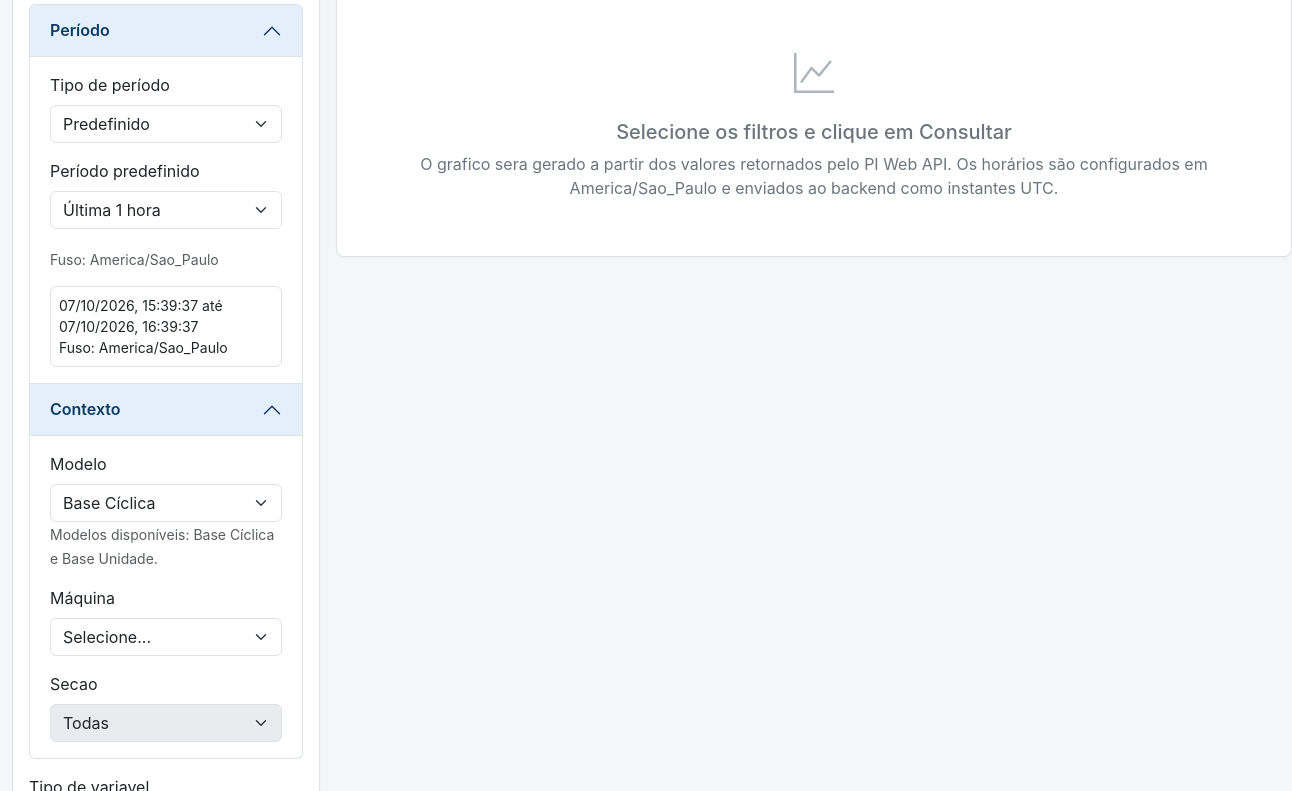
Test: Base Unidade main chart integration › does not use an equipment-wide UM as an implicit fallback for a section
Select "RB3 - Equipamento RB3" in the dropdown with test id "equipment-select" at {"x": 166, "y": 637}, box [50,618,282,656]
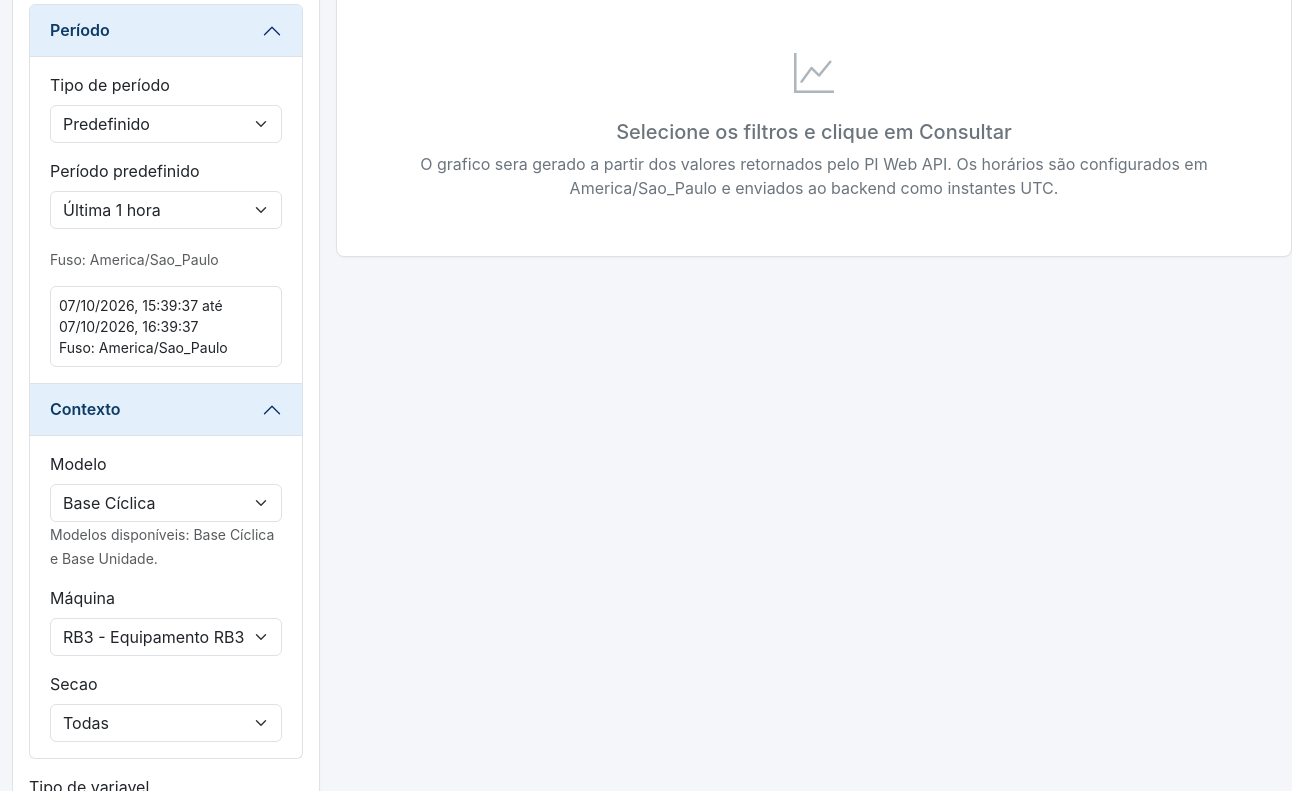
Select "FORNO - Forno" in the dropdown with test id "section-select" at {"x": 166, "y": 723}, box [50,704,282,742]
Select "Base Unidade" in the dropdown with test id "analysis-model" at {"x": 166, "y": 503}, box [50,484,282,522]
(page scrolled)
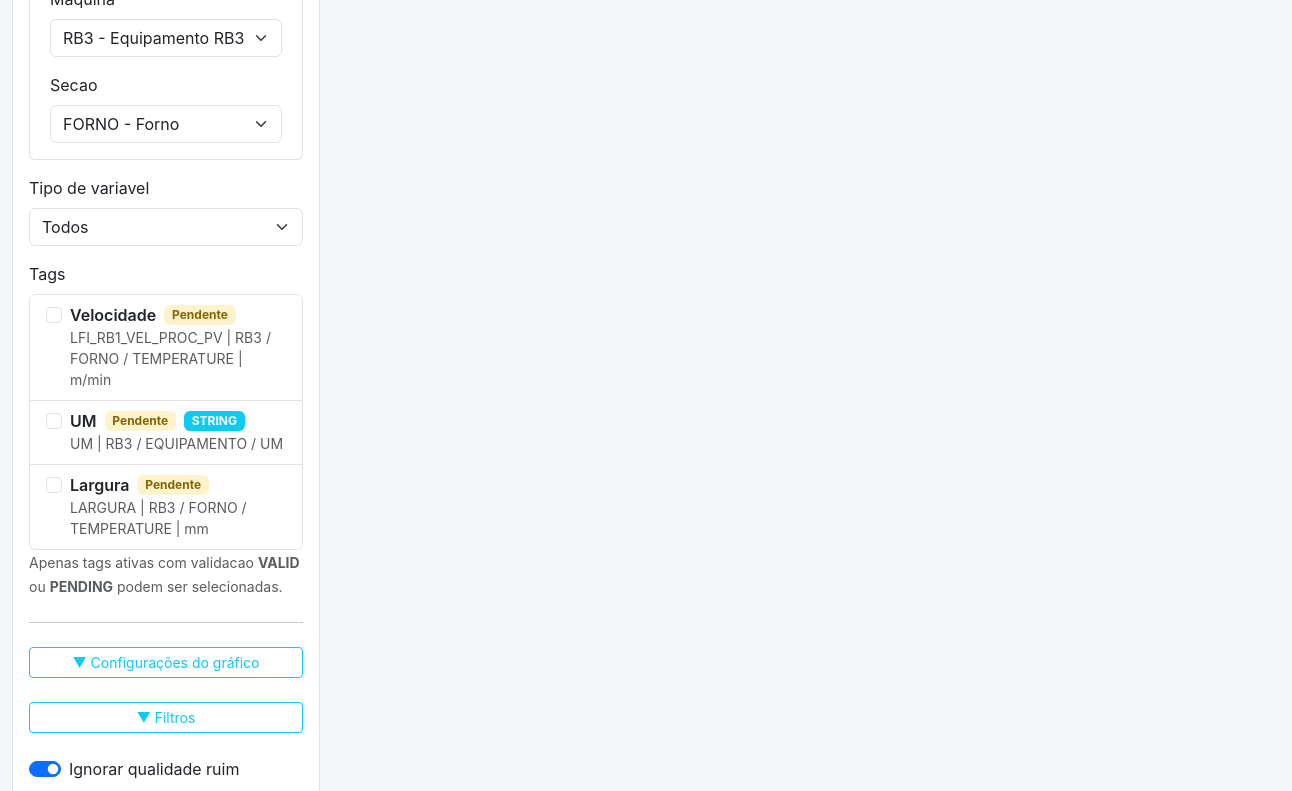
Click the button with test id "tag-option-20" at {"x": 166, "y": 348}, box [29,294,303,401]
(page scrolled)
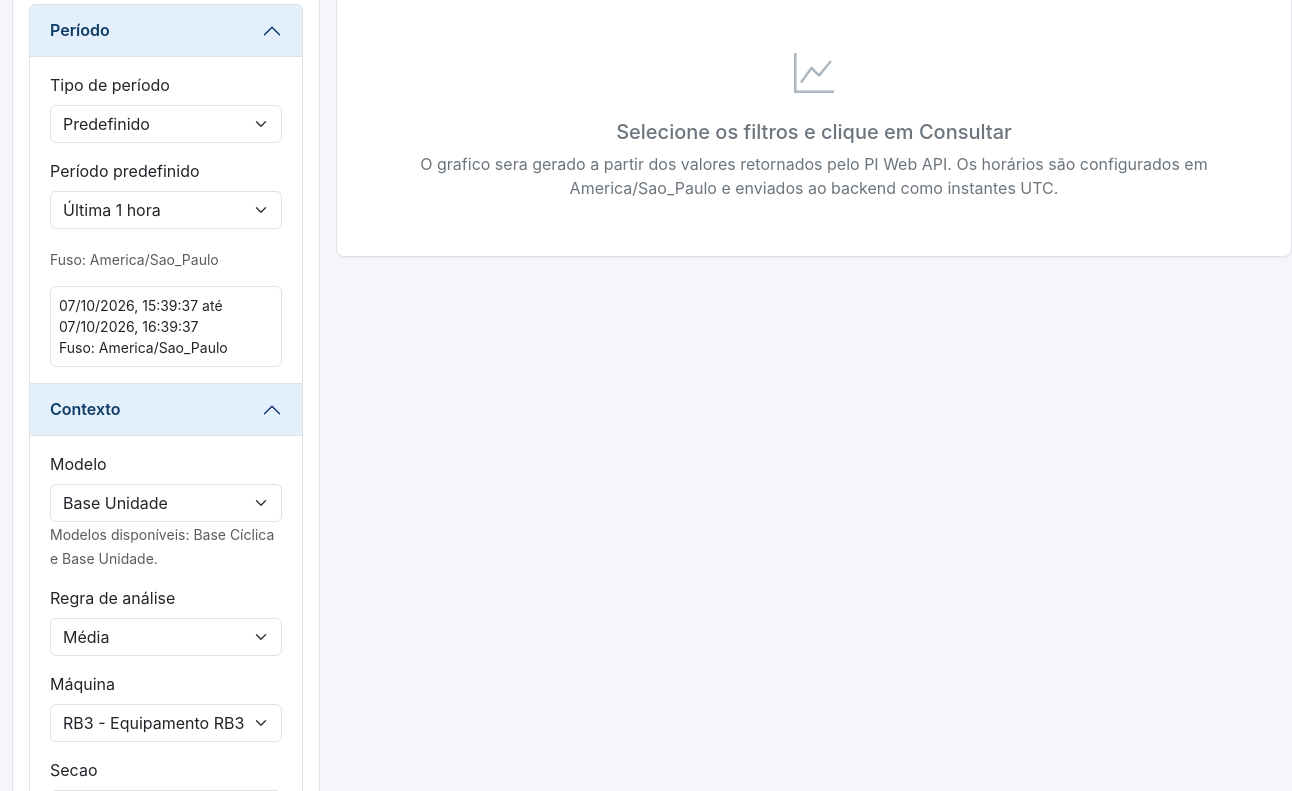
Select "Absoluto" in the dropdown with test id "period-kind" at {"x": 166, "y": 124}, box [50,105,282,143]
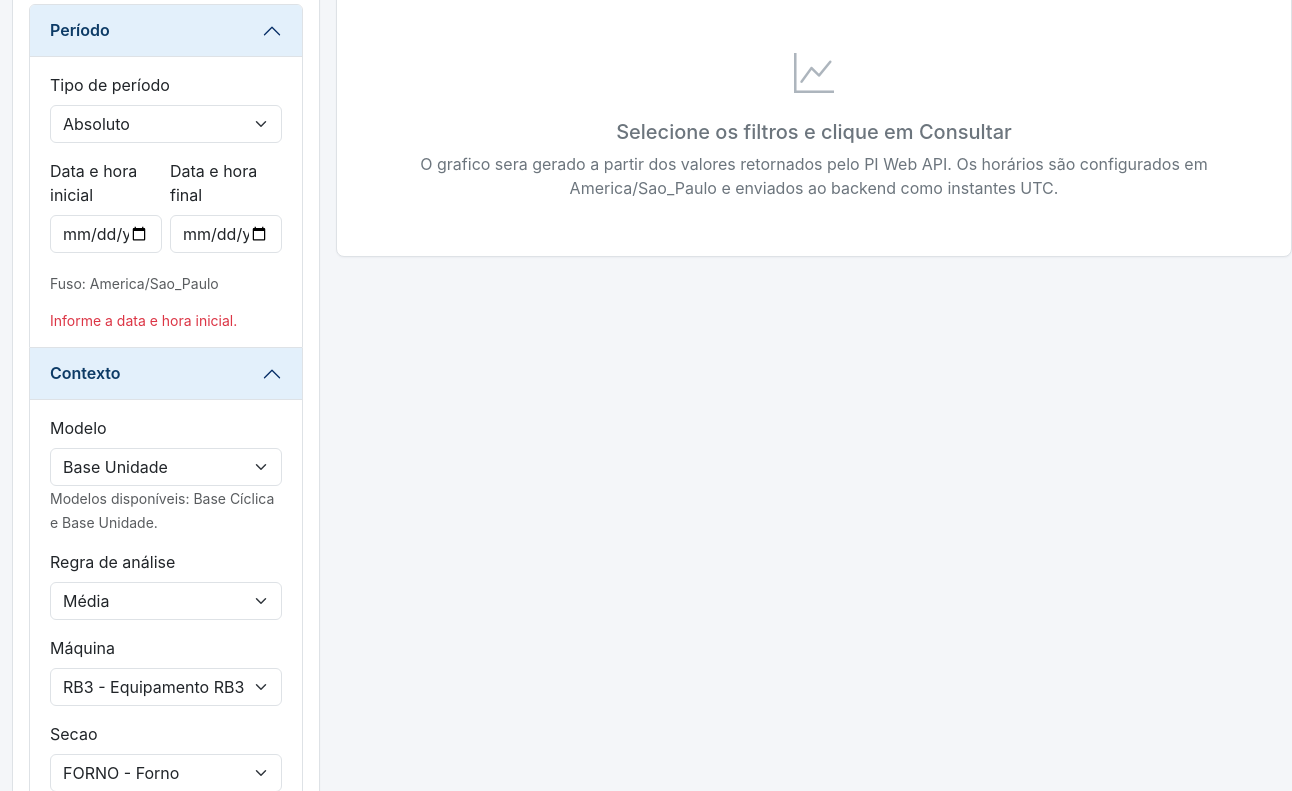
Type "2026-10-02T07:00:00" into the field with test id "absolute-start" at {"x": 106, "y": 234}, box [50,215,162,253]
Type "2026-10-02T07:15:00" into the field with test id "absolute-end" at {"x": 226, "y": 234}, box [170,215,282,253]
(page scrolled)
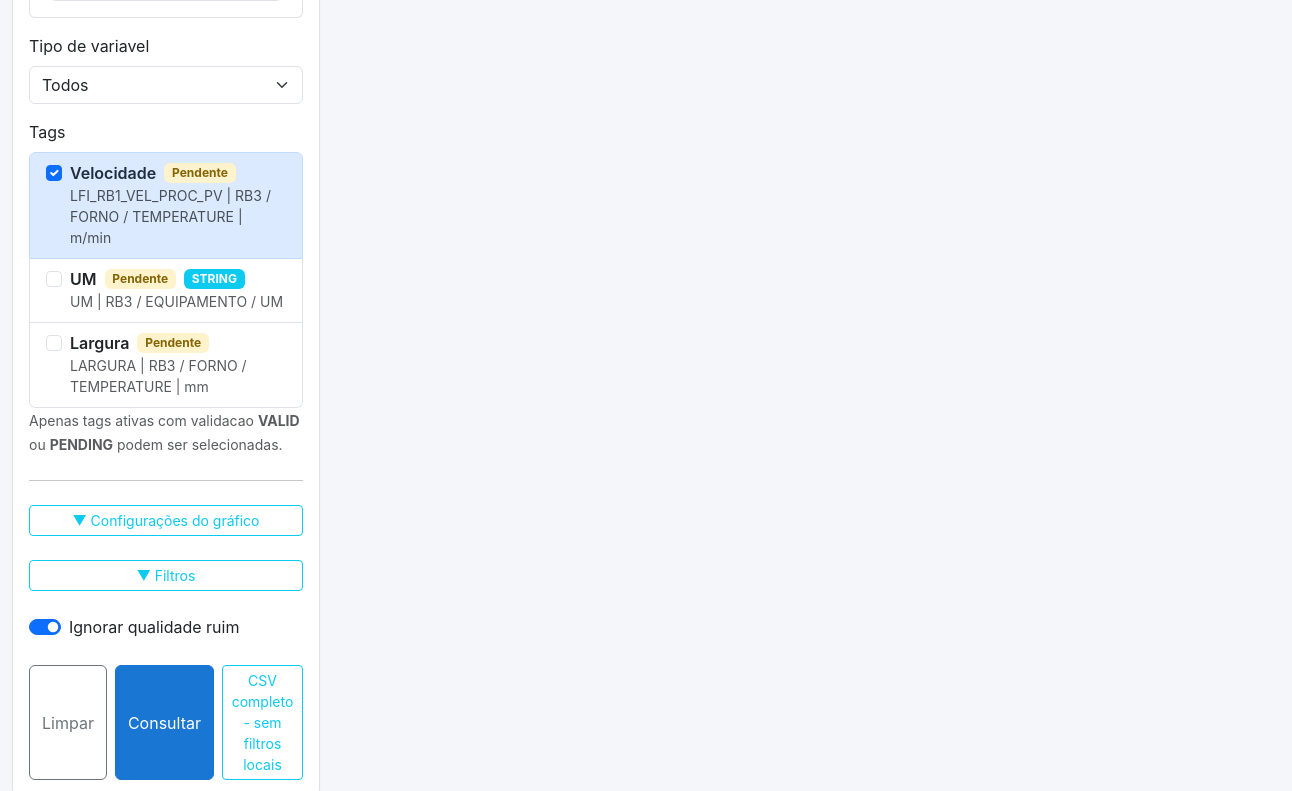
Click the button with test id "filters-submit" at {"x": 164, "y": 722}, box [115,665,214,780]
(page scrolled)
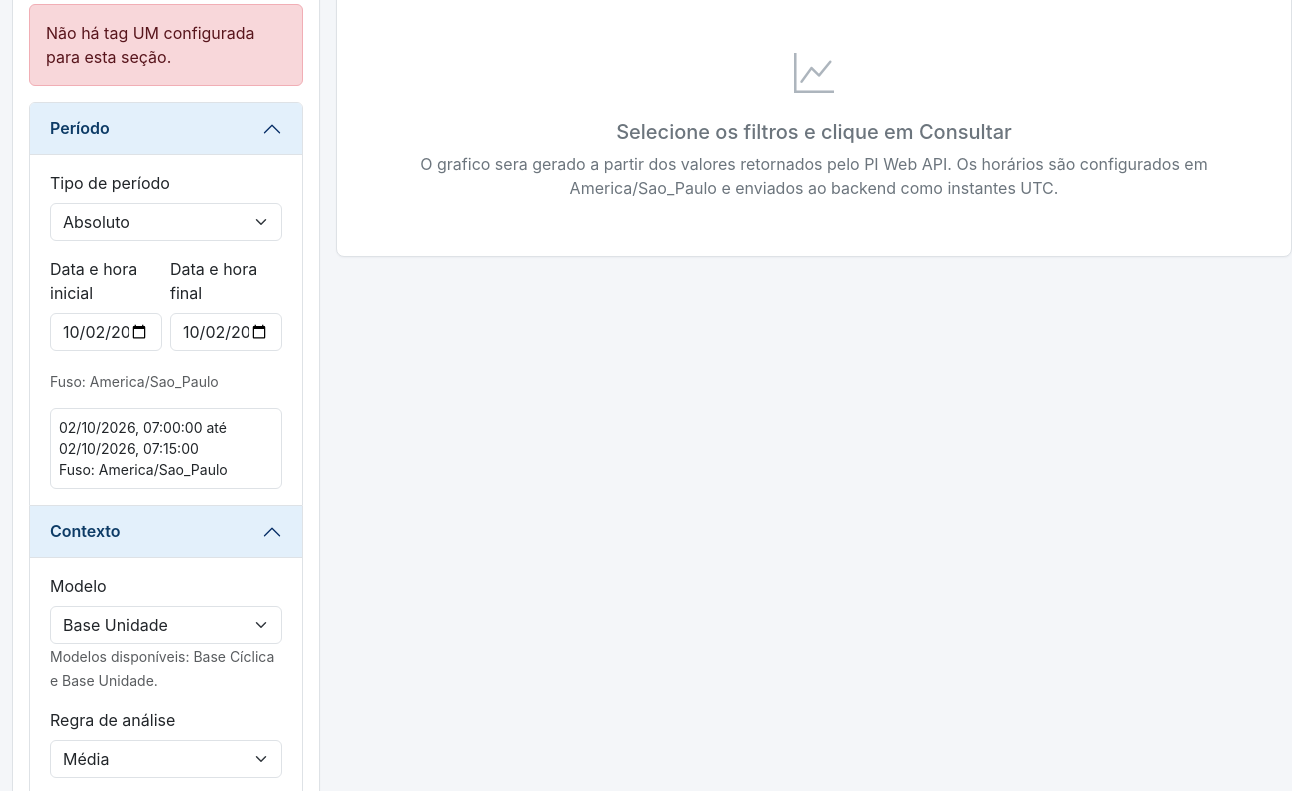
Check: the text "Não há tag UM configurada para esta seção." is shown, box [29,4,303,86]
